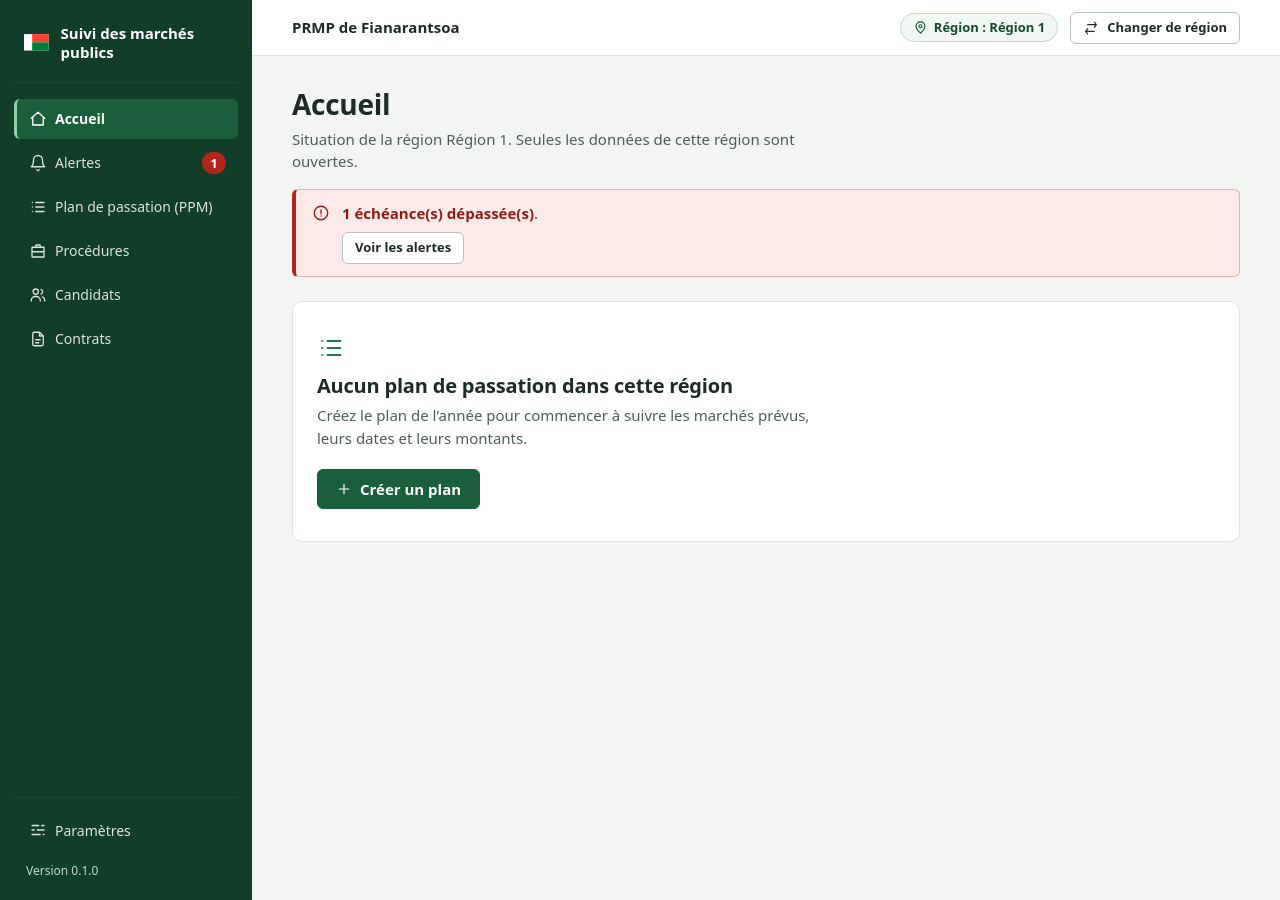
Test: alertes dans l’application › « Régler le délai » mène aux paramètres
Step 1. Click the button "Voir les alertes" → click(403, 248), box [342,232,464,264]
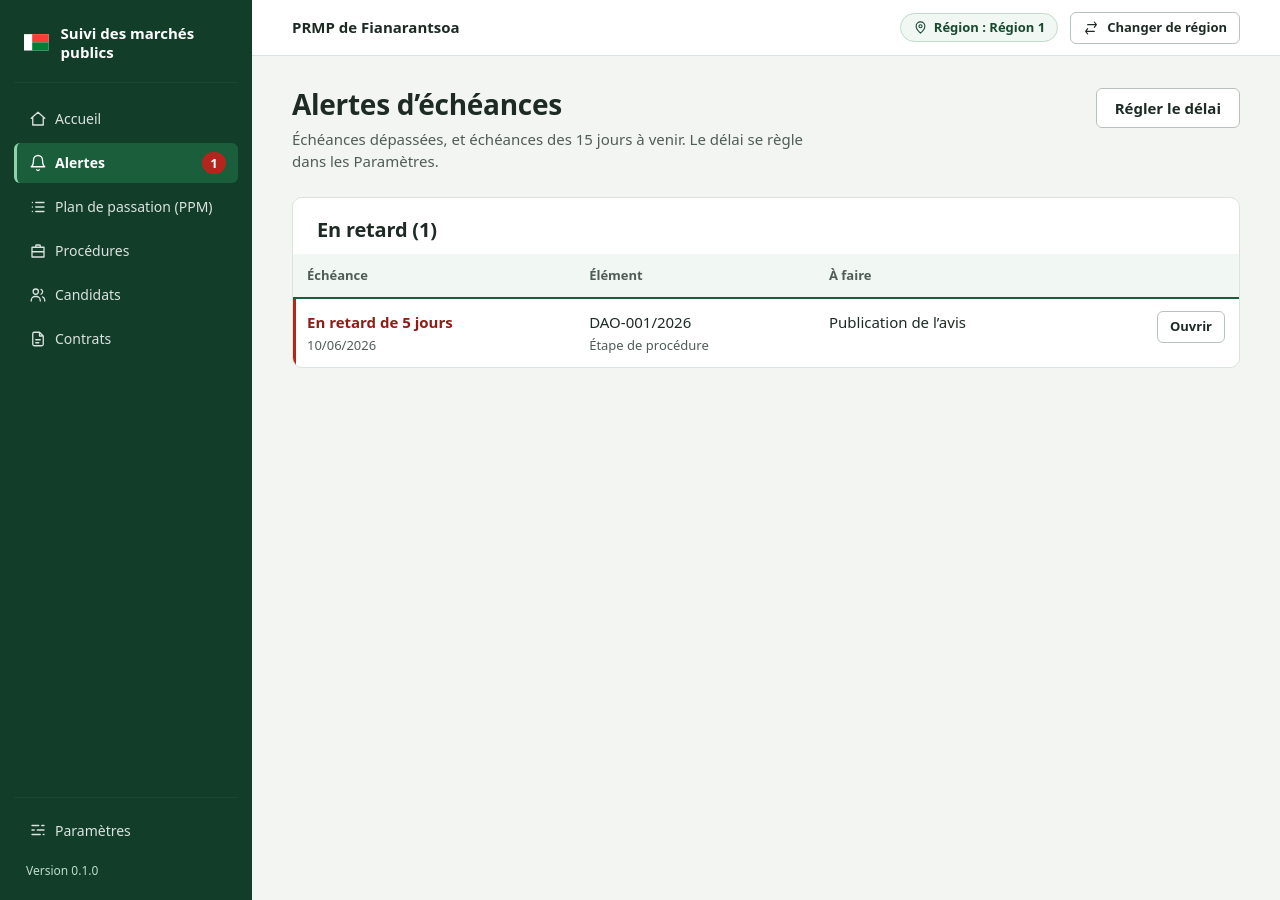
Step 2. Click the button "Régler le délai" → click(1168, 108), box [1096,88,1240,128]
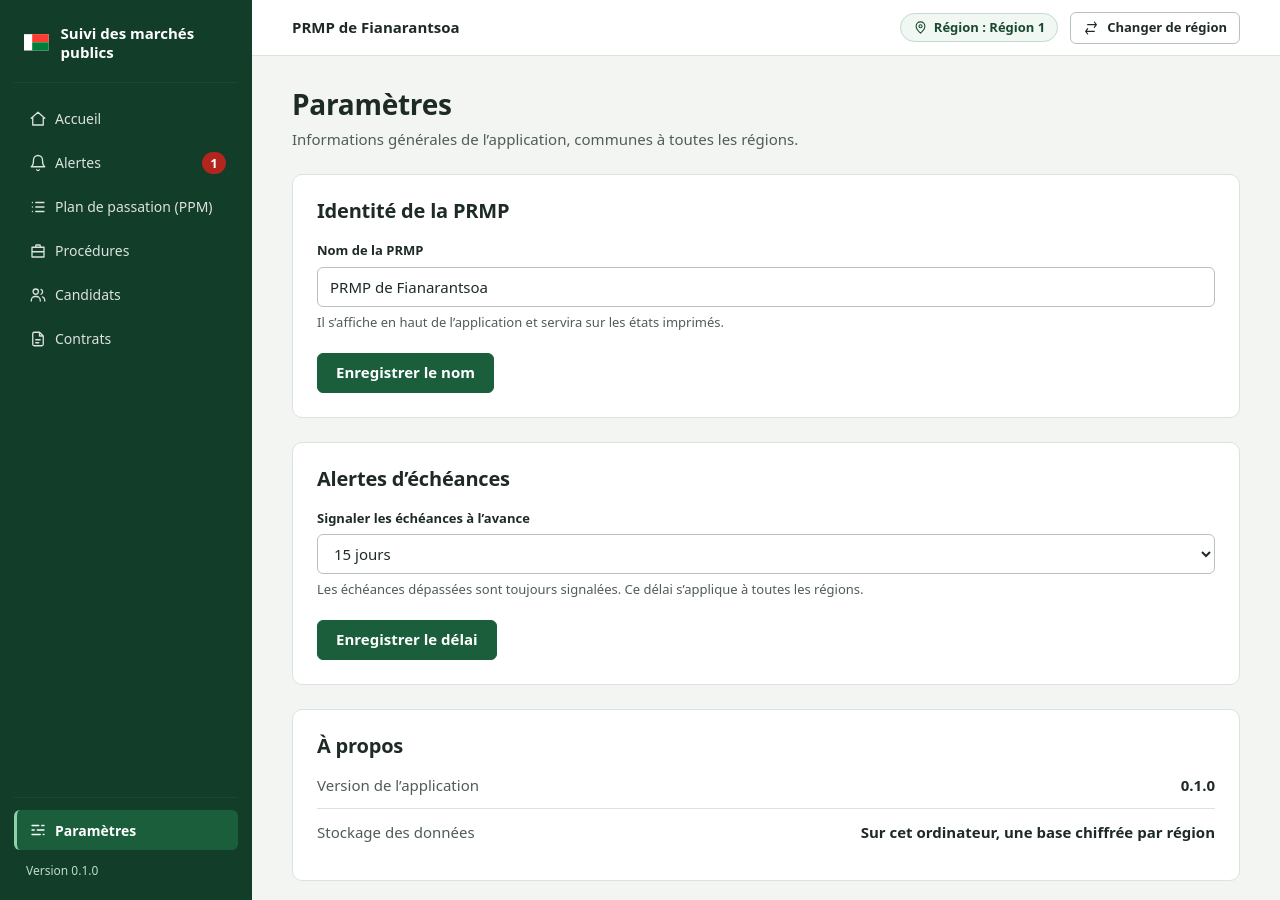
Now the dropdown labelled "Signaler les échéances à l’avance" is shown, box [317,534,1215,574]
